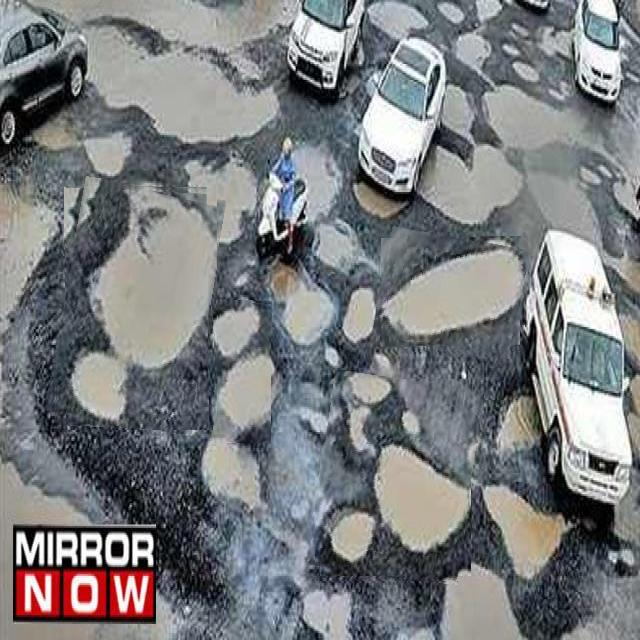Pothole: (54, 182, 217, 430), (315, 374, 478, 581), (376, 232, 526, 353), (212, 300, 271, 443)
